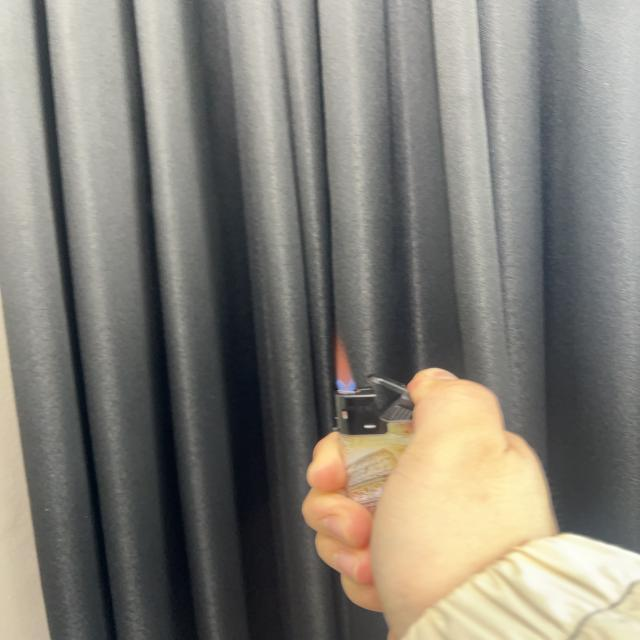fire: (330, 333, 357, 395)
